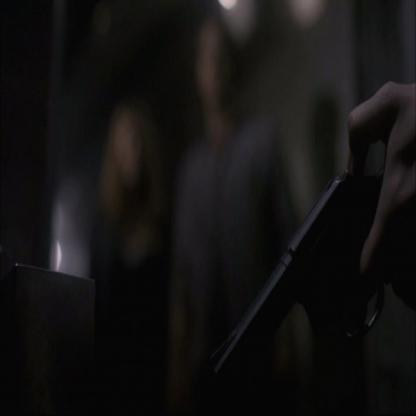Gun: (200, 155, 415, 411)
